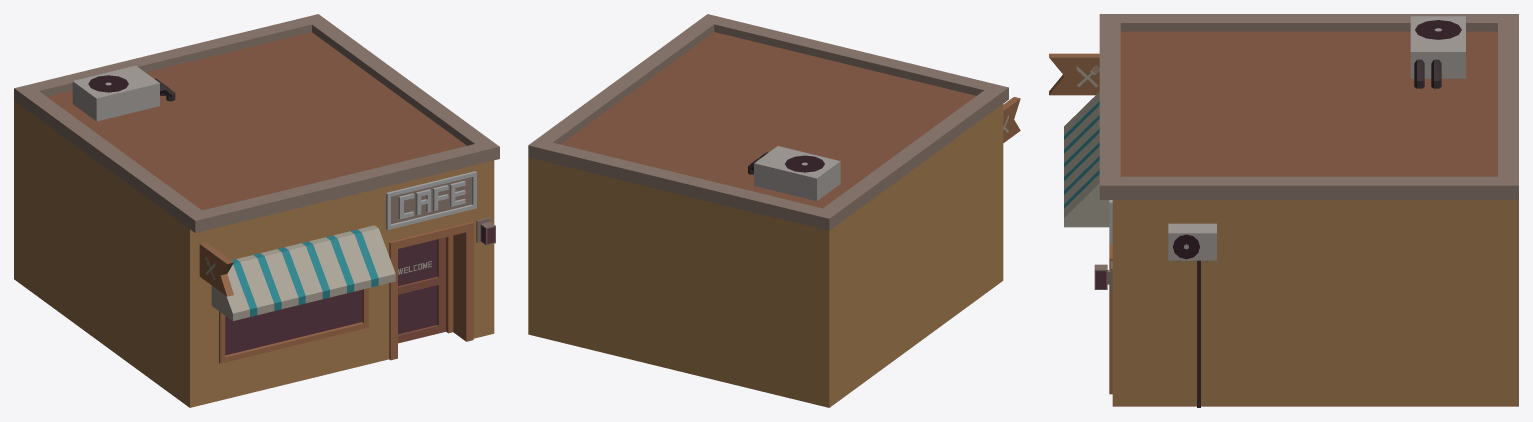
Rendered from Building_7.fbx.
3 views of the same model, side by side, from view 1: azimuth 30°, elevation 25°; view 2: azimuth 150°, elevation 25°; view 3: azimuth 270°, elevation 25° (orthographic). The views are drawn at different scales.
Visible parts, largest first — view 1: Building_7, Building_7LP; view 2: Building_7; view 3: Building_7, Building_7LP.
Boxes of the visible parts, bbox=[...] form: Building_7: bbox=[14, 14, 499, 407]; Building_7LP: bbox=[205, 171, 494, 355]; Building_7: bbox=[528, 14, 1020, 407]; Building_7: bbox=[1049, 14, 1518, 407]; Building_7LP: bbox=[1076, 65, 1112, 288].
Bounding box in the file's own units: 8.25 × 5.06 × 9.04.
